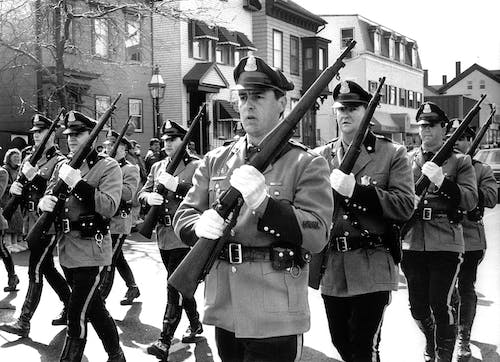gun: (166, 38, 359, 300), (307, 74, 387, 293), (23, 90, 123, 249), (401, 92, 487, 232), (137, 101, 207, 241), (0, 104, 66, 237), (465, 101, 498, 159), (107, 111, 133, 158)
